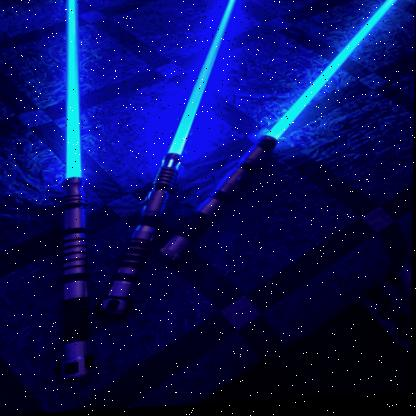lightsaber: (162, 0, 416, 267), (95, 0, 248, 327), (49, 0, 98, 384)
